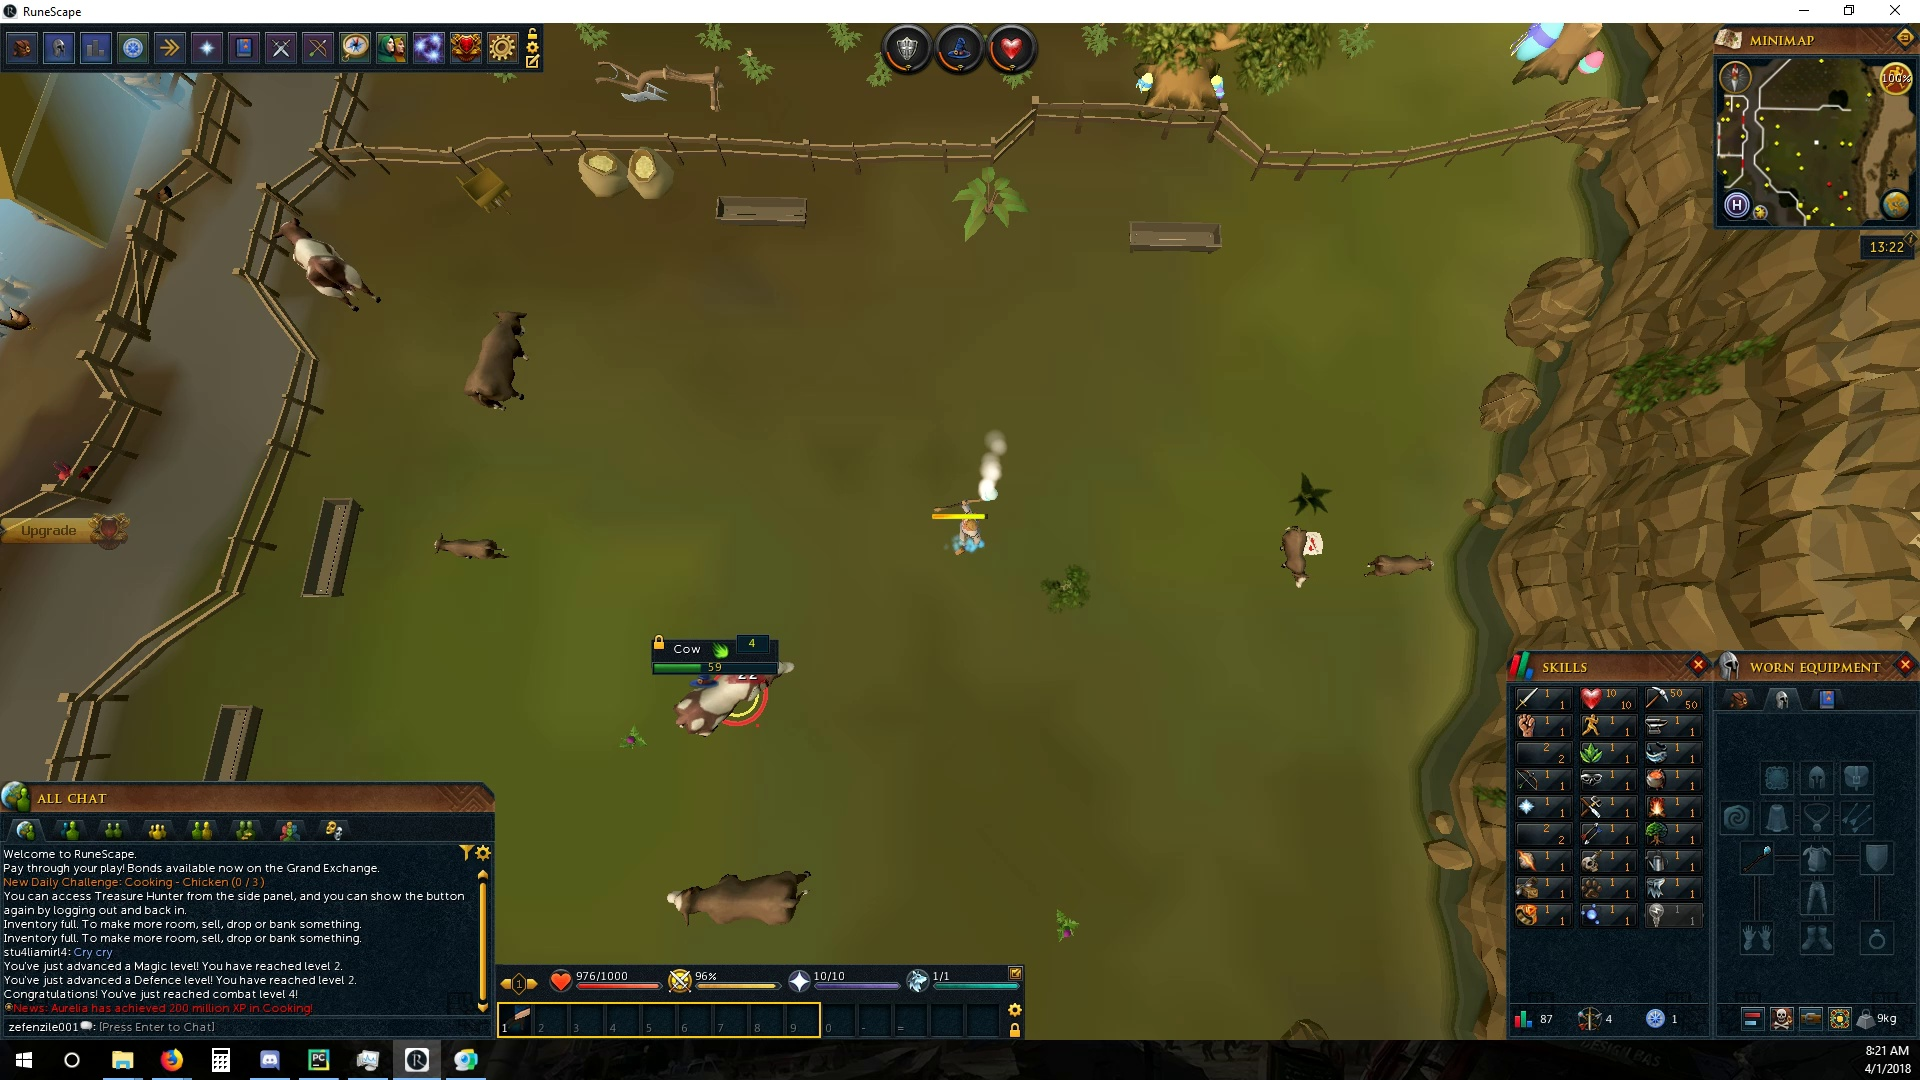calf: (1360, 553, 1439, 585), (1276, 524, 1315, 591), (429, 534, 510, 564)
cow: (270, 215, 390, 315), (670, 655, 796, 738), (655, 868, 815, 926), (465, 302, 533, 417)
cow_drop: (1298, 524, 1329, 566)
